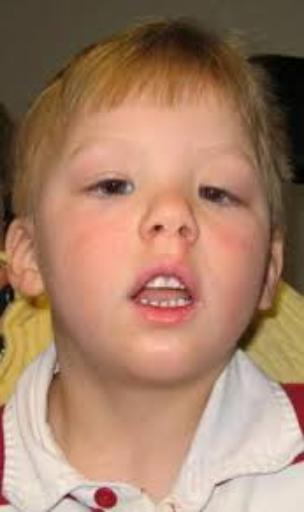left_eye: (198, 186, 245, 211)
left_lip_corner: (189, 286, 206, 312)
right_eye: (80, 177, 137, 203)
right_lip_corner: (121, 286, 139, 312)
